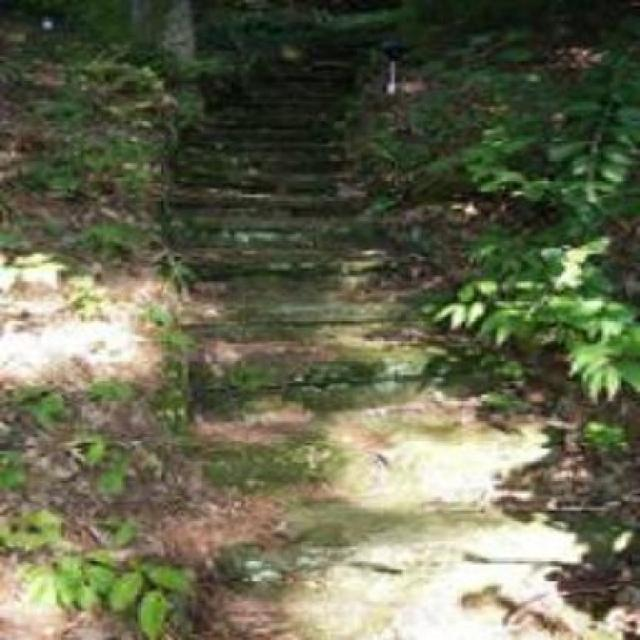stair: (176, 94, 490, 560)
